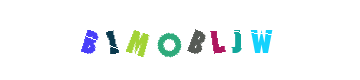1: (98, 0, 178, 80)
B: (49, 0, 129, 80), (140, 0, 220, 80)
J: (176, 0, 256, 80)
L: (150, 0, 230, 80)
M: (126, 0, 206, 80)
O: (131, 0, 211, 80)
W: (221, 0, 301, 80)
